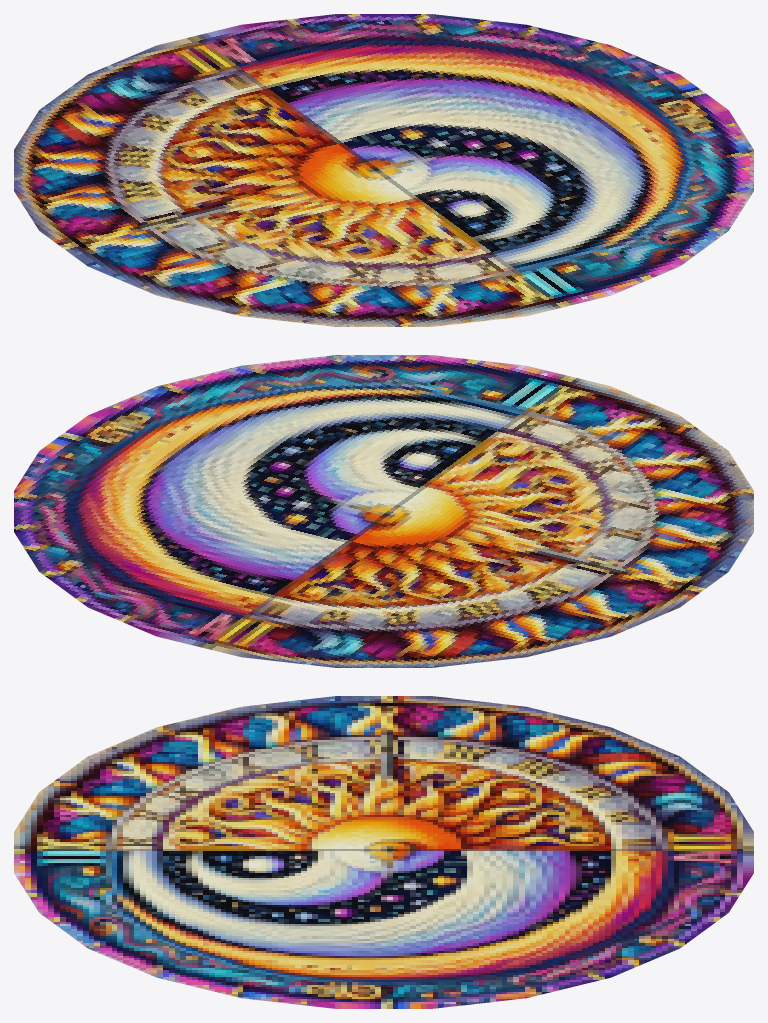
File: mod_carpet1.gltf
The picture shows the model from 3 angles, top to bottom: view 1: azimuth 30°, elevation 25°; view 2: azimuth 150°, elevation 25°; view 3: azimuth 270°, elevation 25°; orthographic projection.
Visible parts, largest first — view 1: cylinder; view 2: cylinder; view 3: cylinder.
Boxes of the visible parts, x1=… form: cylinder: x1=14, y1=14, x2=753, y2=326; cylinder: x1=14, y1=355, x2=753, y2=667; cylinder: x1=14, y1=696, x2=753, y2=1008.
Bounding box in the file's own units: 2 × 0 × 2.
Materials: 1 (1 with a texture image).
